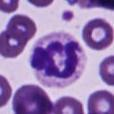N: (30, 32, 86, 88)
